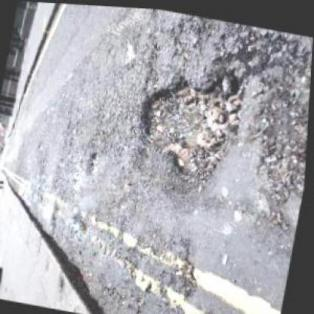Hueco: (125, 49, 252, 196), (87, 149, 100, 173)
